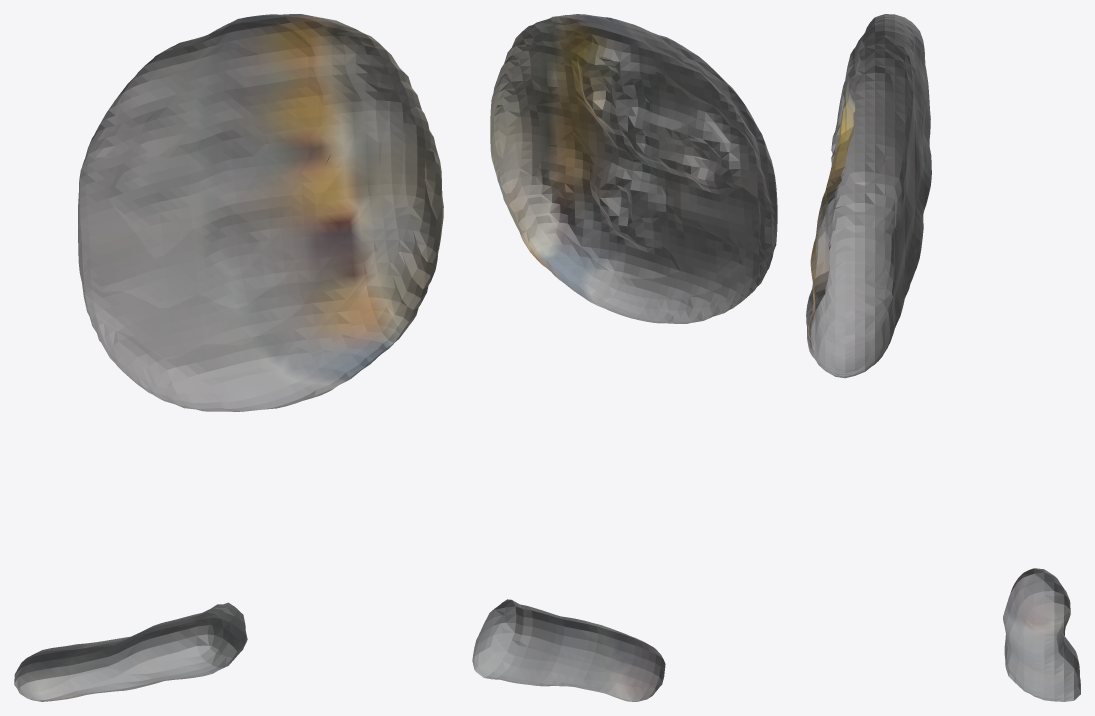
The model's file is model_bfe27ac2.glb.
3 views of the same model, side by side, from view 1: azimuth 30°, elevation 25°; view 2: azimuth 150°, elevation 25°; view 3: azimuth 270°, elevation 25° (orthographic). The views are drawn at different scales.
Parts seen in each view (by area): view 1: world; view 2: world; view 3: world.
Part boxes in pixels (x1=…): world: x1=14, y1=14, x2=443, y2=701; world: x1=472, y1=14, x2=777, y2=701; world: x1=806, y1=14, x2=1080, y2=701.
Size of the model in its own units: 0.2414 by 0.4875 by 0.1885.
